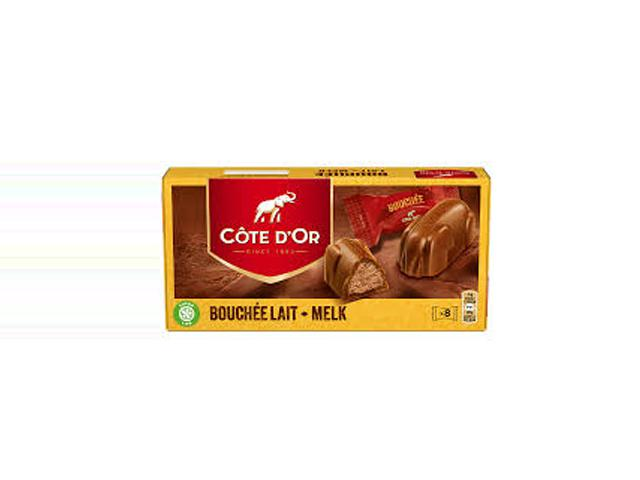chocolate: (161, 158, 495, 359)
